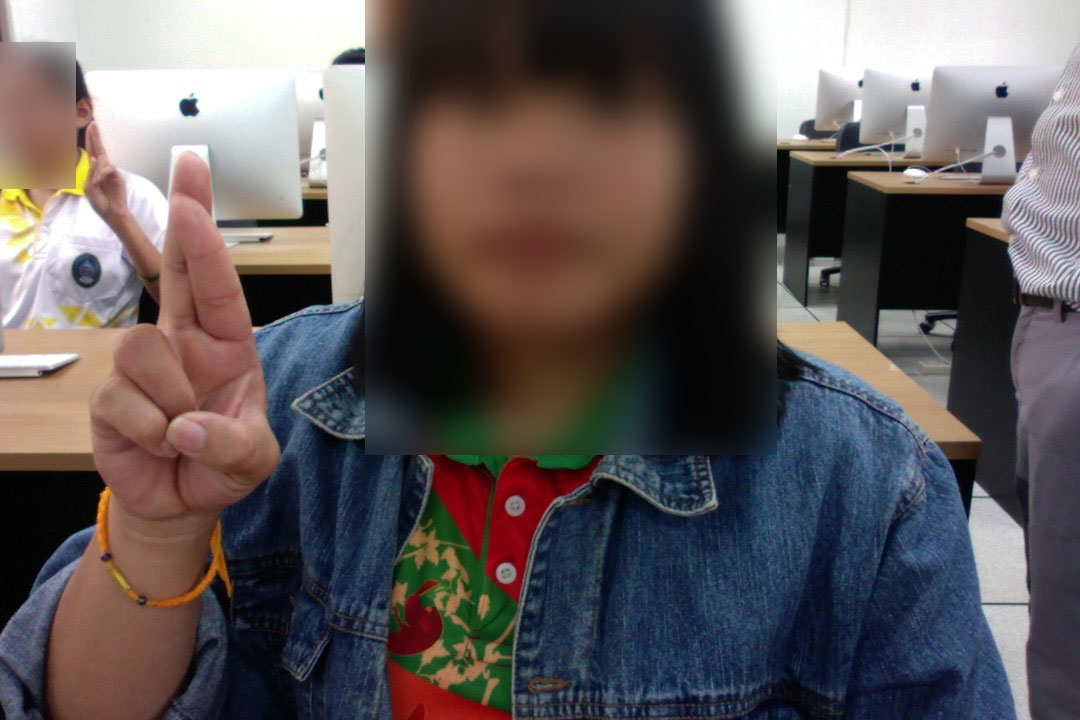rao: (82, 149, 286, 525)
